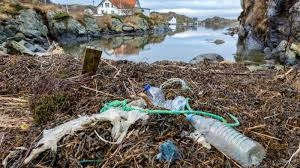plastic: (186, 111, 268, 167), (141, 82, 189, 113)
